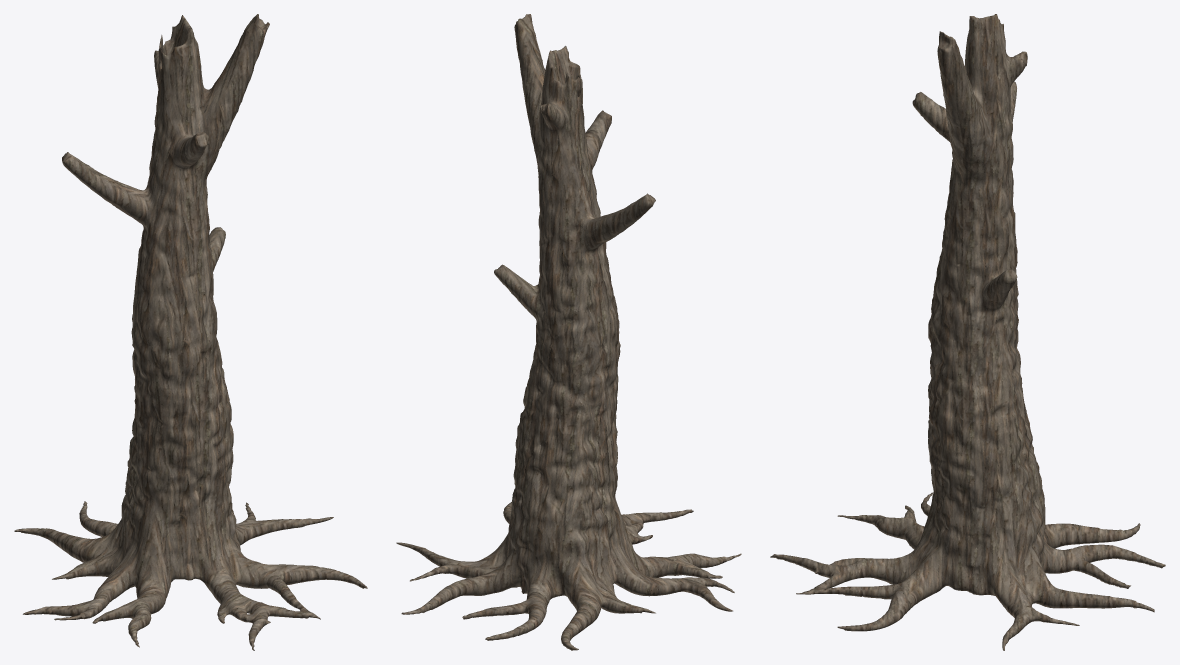
Rendered from dead-snag-v02.glb.
The picture shows the model from 3 angles, left to right: view 1: azimuth 30°, elevation 25°; view 2: azimuth 150°, elevation 25°; view 3: azimuth 270°, elevation 25°; orthographic projection. The views are drawn at different scales.
Parts seen in each view (by area): view 1: Dead snag v02 | connected branches; view 2: Dead snag v02 | connected branches; view 3: Dead snag v02 | connected branches.
Boxes of the visible parts, x1,y1,x2,y2 form: Dead snag v02 | connected branches: (14,14,367,650); Dead snag v02 | connected branches: (396,14,741,650); Dead snag v02 | connected branches: (770,14,1165,650).
Size of the model in its own units: 3.64 by 5.96 by 3.68.
Materials: 1 (1 with a texture image).
